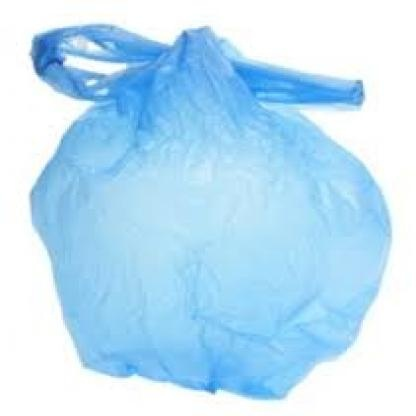trash: (32, 25, 389, 397)
